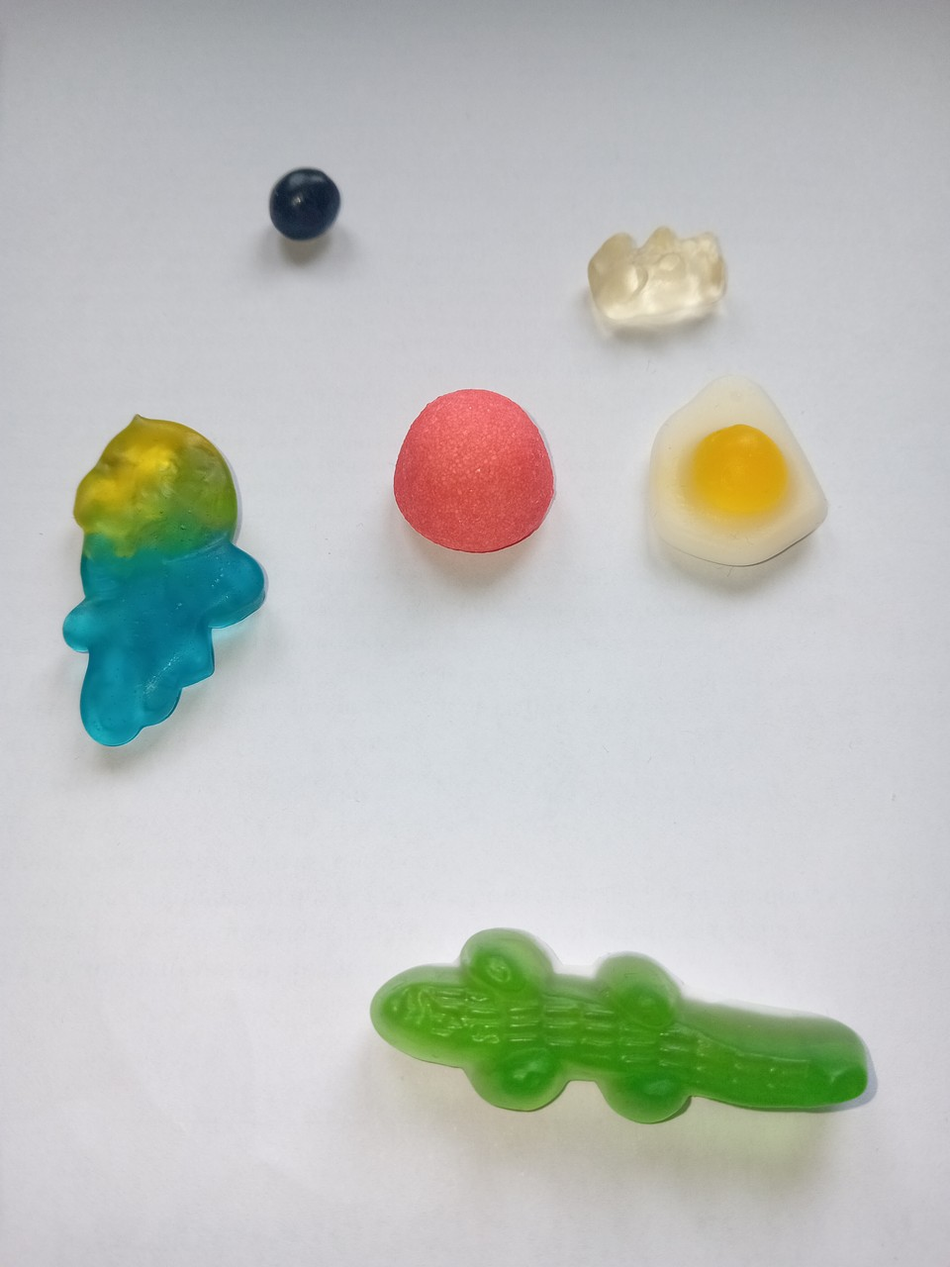crocodile_vert: (365, 921, 883, 1132)
dragibus_noir: (266, 160, 347, 247)
oeuf_oeuf: (637, 364, 833, 574)
ourson_blanc: (581, 218, 732, 329)
schtroumpf_bleu-jaune: (54, 405, 270, 754)
tagada_fraise: (389, 385, 558, 556)
